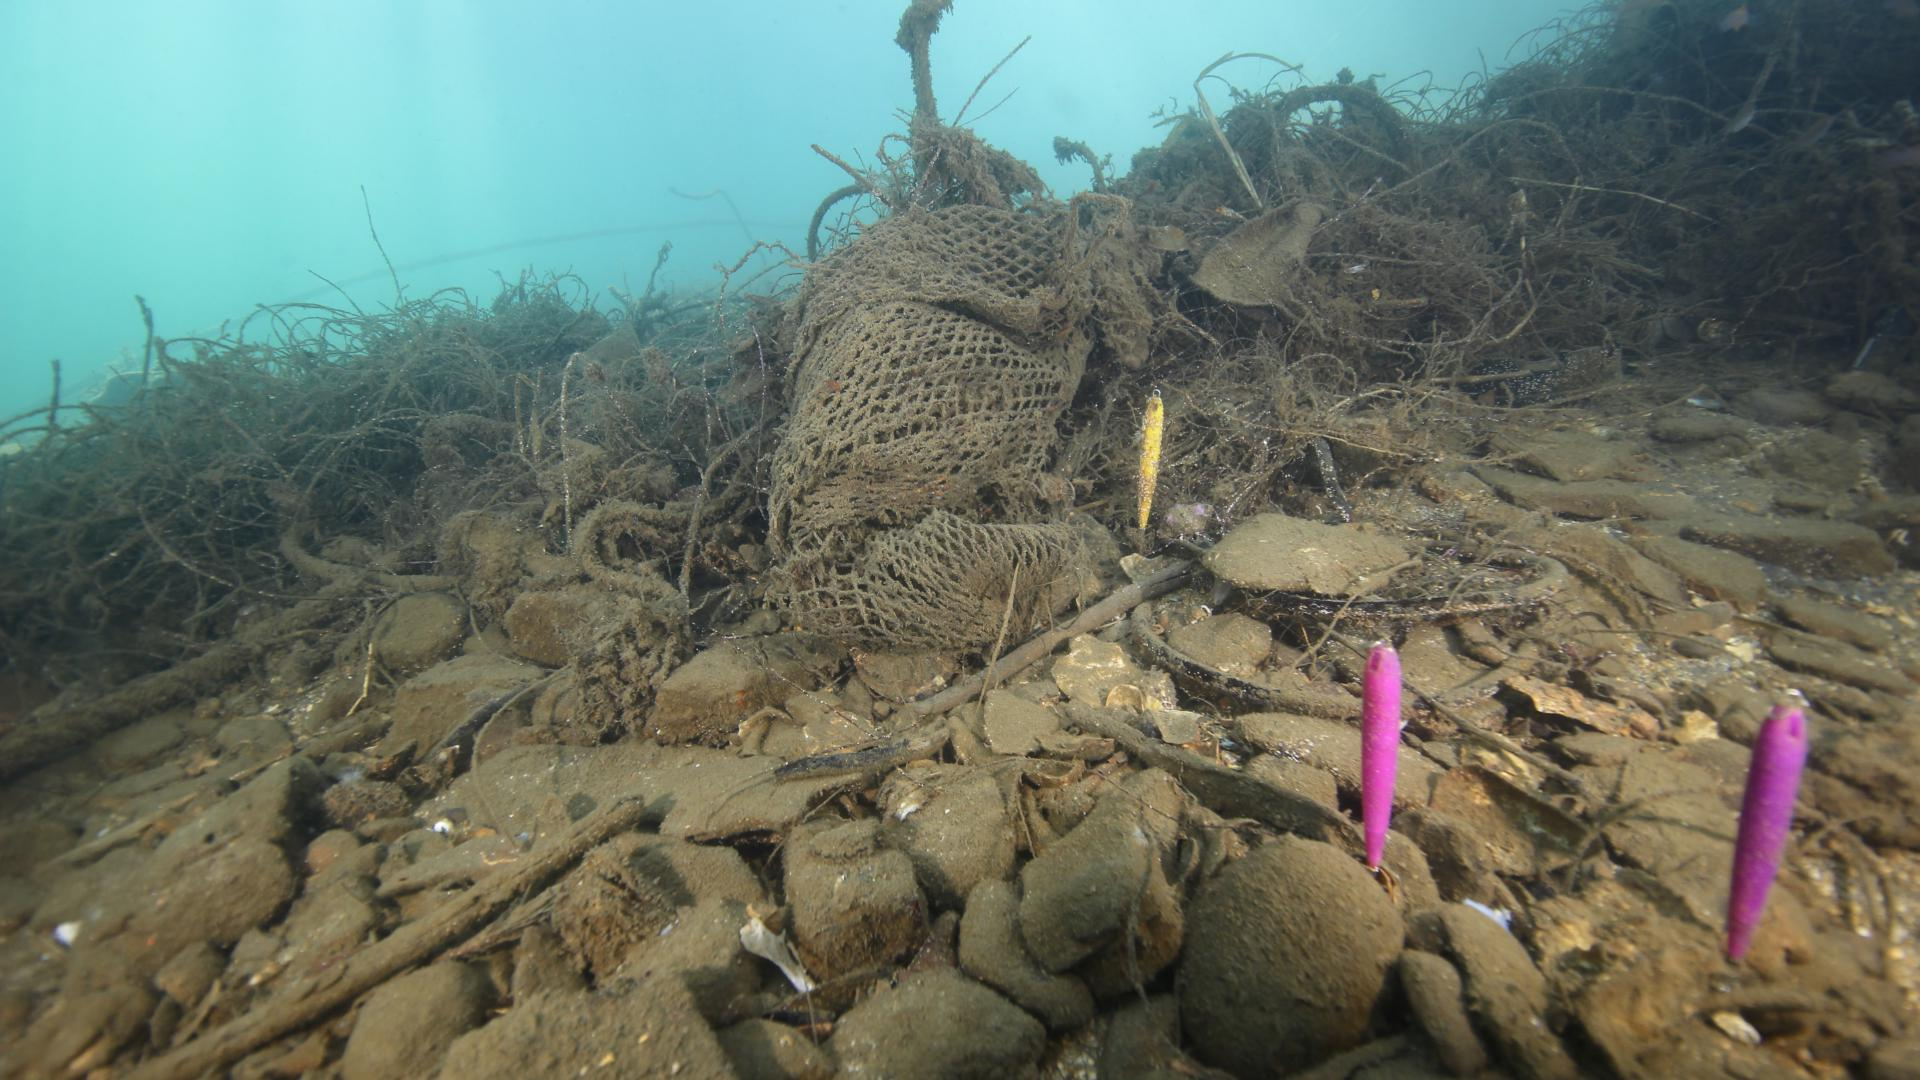fish net: (767, 200, 1068, 645)
